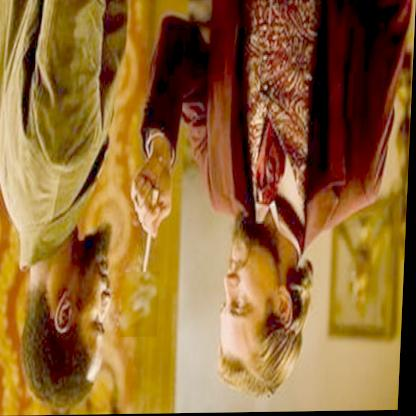smoke: (123, 272, 162, 337)
